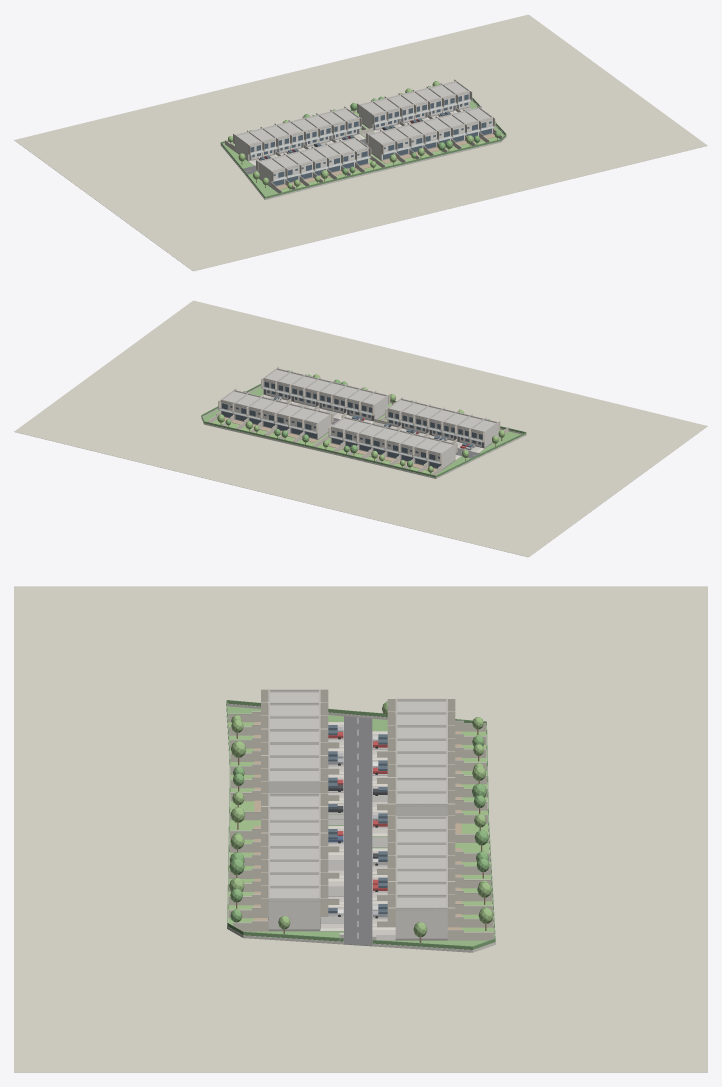
3 renders of one model, top to bottom at view 1: azimuth 30°, elevation 25°; view 2: azimuth 150°, elevation 25°; view 3: azimuth 270°, elevation 25°, orthographic. The views are drawn at different scales.
Parts seen in each view (by area): view 1: zemin__zemin, villa__duvar, villa__cakil, villa__cam, villa__harpusta, villa__duvar2, villa__perde, villa__korkuluk, peyzaj__perde, peyzaj__cit, peyzaj__cim, peyzaj__bahce_duv (+3 smaller); view 2: zemin__zemin, villa__duvar, villa__cakil, villa__cam, villa__harpusta, villa__duvar2, villa__perde, villa__korkuluk, peyzaj__cit, peyzaj__perde, peyzaj__bahce_duv, peyzaj__cim (+4 smaller); view 3: zemin__zemin, villa__cakil, peyzaj__perde, villa__duvar, villa__perde, yol__asfalt, villa__harpusta, peyzaj__cim, agac__yaprak2, peyzaj__cit, peyzaj__parke, peyzaj__bahce_duv (+8 smaller).
Boxes of the visible parts, x1,y1,x2,y2 form: zemin__zemin: (14,14,707,271); villa__duvar: (235,81,494,186); villa__cakil: (237,82,490,170); villa__cam: (250,94,491,185); villa__harpusta: (235,81,492,170); villa__duvar2: (250,84,492,183); villa__perde: (233,79,495,181); villa__korkuluk: (250,99,494,180); peyzaj__perde: (225,108,502,193); peyzaj__cit: (220,97,506,198); peyzaj__cim: (231,111,506,192); peyzaj__bahce_duv: (220,99,506,200); zemin__zemin: (14,300,707,557); villa__duvar: (219,368,498,468); villa__cakil: (223,370,495,452); villa__cam: (221,382,483,468); villa__harpusta: (221,368,497,453); villa__duvar2: (220,378,482,465); villa__perde: (218,366,500,464); villa__korkuluk: (219,386,482,463); peyzaj__cit: (201,383,526,477); peyzaj__perde: (208,399,508,475); peyzaj__bahce_duv: (201,385,526,478); peyzaj__cim: (212,403,503,474); zemin__zemin: (14,586,707,1072); villa__cakil: (270,692,447,910); peyzaj__perde: (228,712,494,940); villa__duvar: (268,690,447,938); villa__perde: (261,689,455,926); yol__asfalt: (344,716,372,946); villa__harpusta: (268,689,447,908); peyzaj__cim: (228,722,493,952); agac__yaprak2: (229,701,493,936); peyzaj__cit: (226,700,495,949); peyzaj__parke: (320,722,395,940); peyzaj__bahce_duv: (226,703,495,952).
Size of the model in its own units: 244 by 7.75 by 147.
